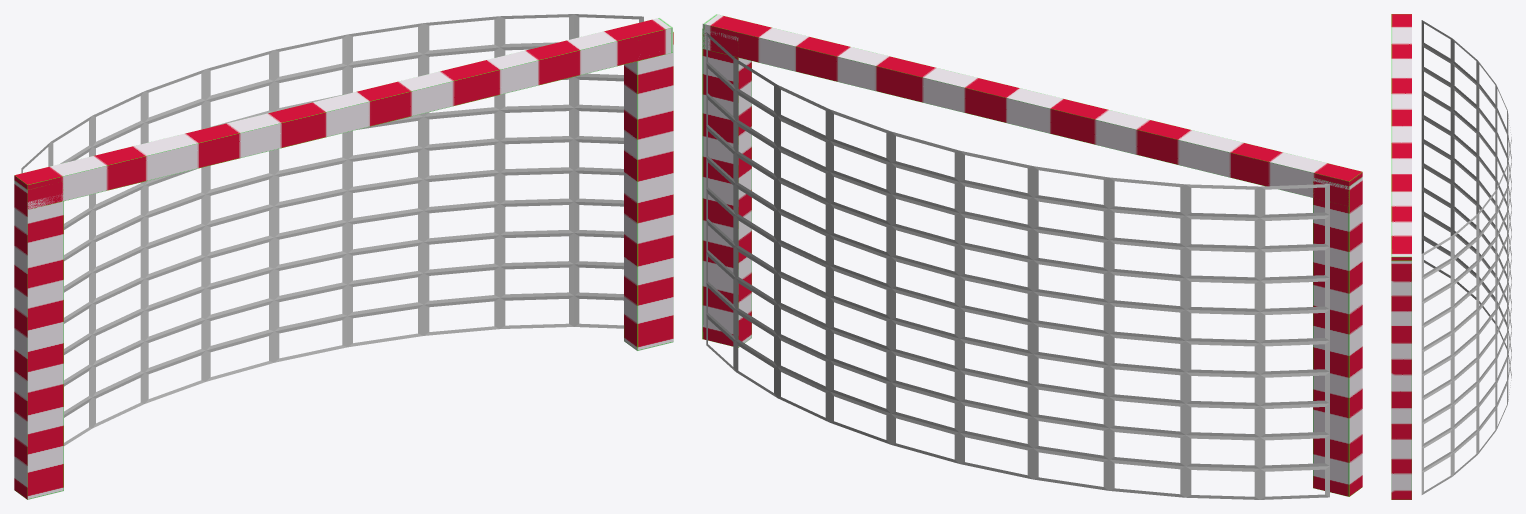
Rendered from porteria.fbx.
The picture shows the model from 3 angles, left to right: view 1: azimuth 30°, elevation 25°; view 2: azimuth 150°, elevation 25°; view 3: azimuth 270°, elevation 25°; orthographic projection. The views are drawn at different scales.
Visible parts, largest first — view 1: Box003; view 2: Box003; view 3: Box003.
Part boxes in pixels (x1,y1,x2,y2): Box003: (14,14,673,499); Box003: (702,14,1362,499); Box003: (1391,14,1511,499).
Size of the model in its own units: 244 by 114 by 50.93.
